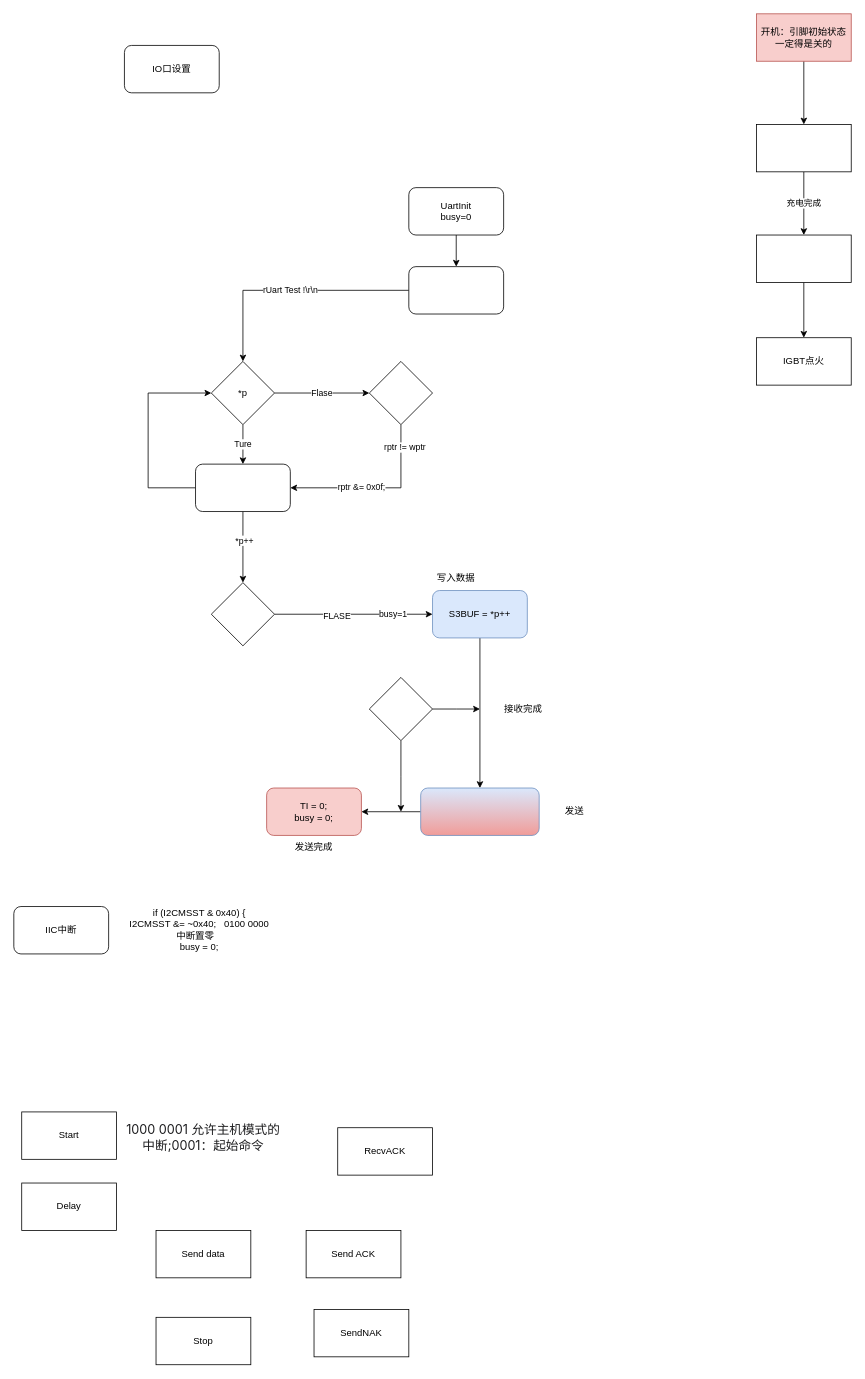
Image size: 865x1379. Some labels were removed from this diagram. Here are the shapes that lost their labels. From the top down, the centre of each, then its label:
At [803,148]: "打开PWM".
At [803,258]: "闭合继电器".
At [456,290]: "Uart3SendStr".
At [401,393]: "主循环".
At [242,487]: "Uart3Send".
At [243,614]: "busy".
At [401,709]: "interrupt 17".
At [479,811]: "RI = 0; buffer[wptr++] = S3BUF; wptr &= 0x0f;".
